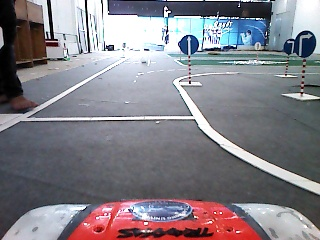straight: (178, 33, 201, 57)
turn: (293, 28, 318, 60)
